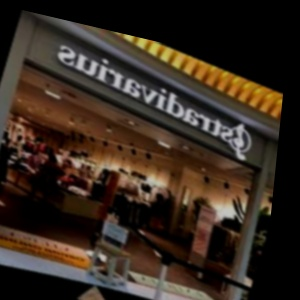stradivarius: (228, 119, 279, 136)
